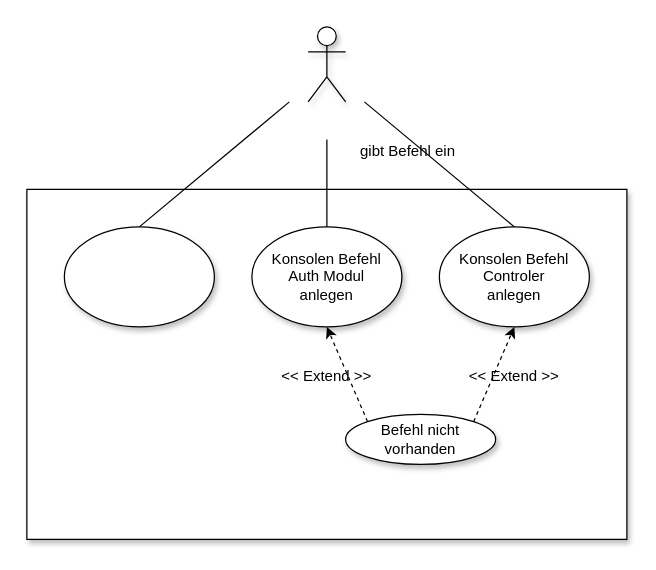
Some shapes in this 656 by 570 pixel diagram are drawn without their labels. Each missing label, with the centre of its shape:
"Benutzer" goes at point 327,66.
"Konsolen Befehle anzeigen lassen" goes at point 140,278.
